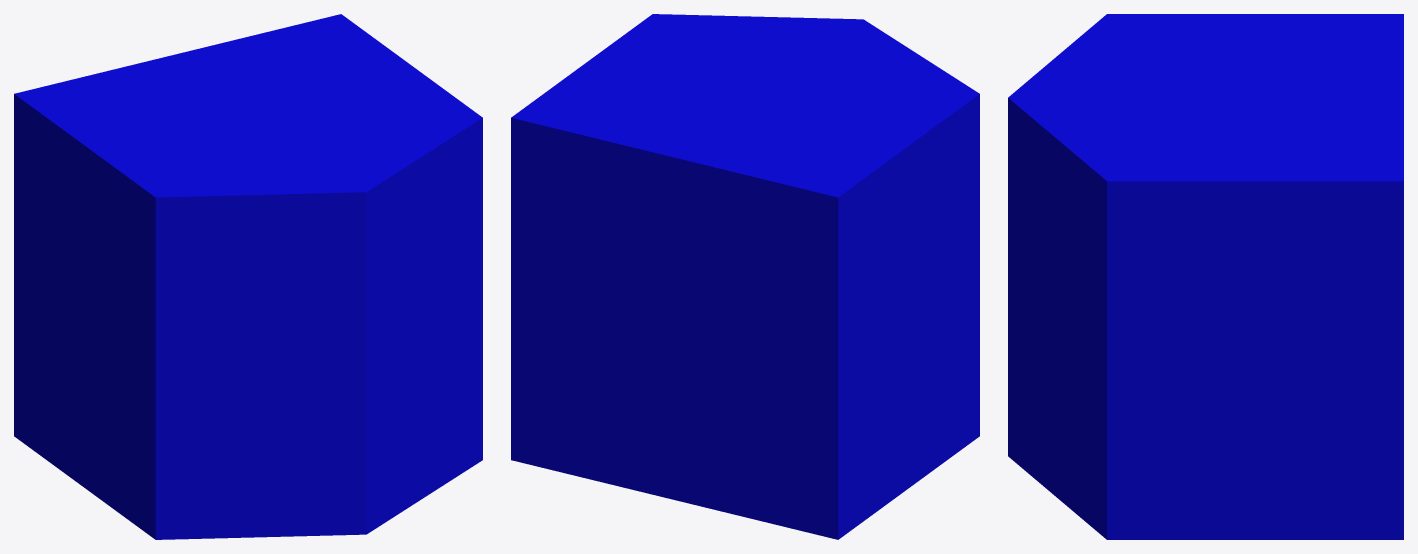
The model's file is player.glb.
3 views of the same model, side by side, from view 1: azimuth 30°, elevation 25°; view 2: azimuth 150°, elevation 25°; view 3: azimuth 270°, elevation 25° (orthographic). The views are drawn at different scales.
Parts seen in each view (by area): view 1: Cube; view 2: Cube; view 3: Cube.
Boxes of the visible parts, <box> form: Cube: <box>14,14,482,539</box>; Cube: <box>511,14,979,539</box>; Cube: <box>1008,14,1403,539</box>.
Size of the model in its own units: 0.8 by 0.8 by 0.8.
